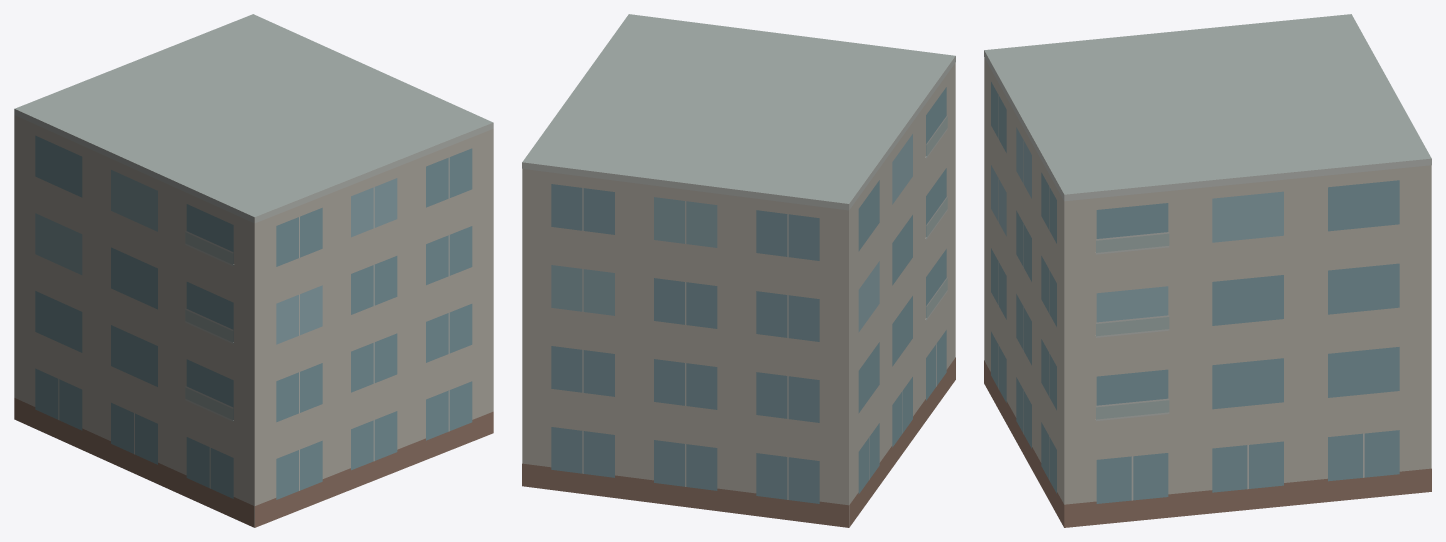
File: survey-upis-32719735.glb
3 renders of one model, left to right at view 1: azimuth 30°, elevation 25°; view 2: azimuth 150°, elevation 25°; view 3: azimuth 270°, elevation 25°, orthographic. The views are drawn at different scales.
Visible parts, largest first — view 1: survey-upis-32719735.tmp; view 2: survey-upis-32719735.tmp; view 3: survey-upis-32719735.tmp.
Boxes of the visible parts, bbox=[...] form: survey-upis-32719735.tmp: bbox=[14, 14, 493, 527]; survey-upis-32719735.tmp: bbox=[522, 14, 955, 527]; survey-upis-32719735.tmp: bbox=[984, 14, 1431, 527].
Bounding box in the file's own units: 14.26 × 12.25 × 14.93.
